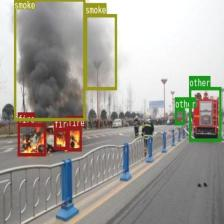fire: (17, 123, 46, 155), (68, 126, 82, 150), (54, 128, 67, 149)
smoke: (13, 0, 85, 120), (85, 13, 116, 90)
